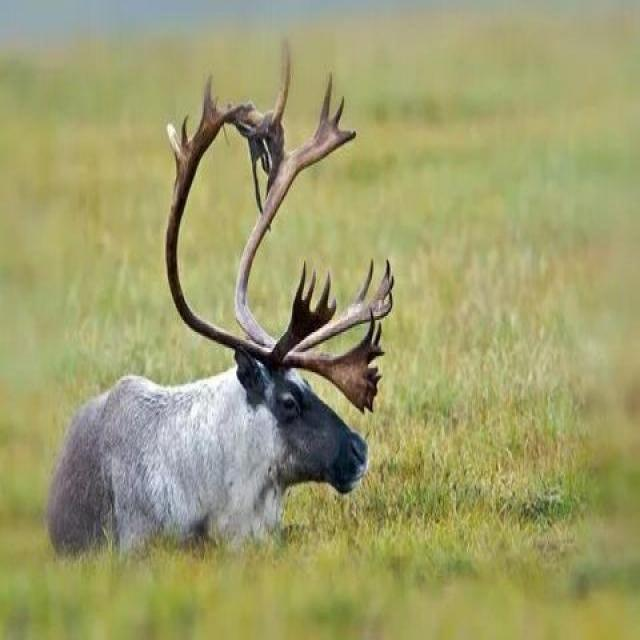deer: (52, 147, 392, 574)
